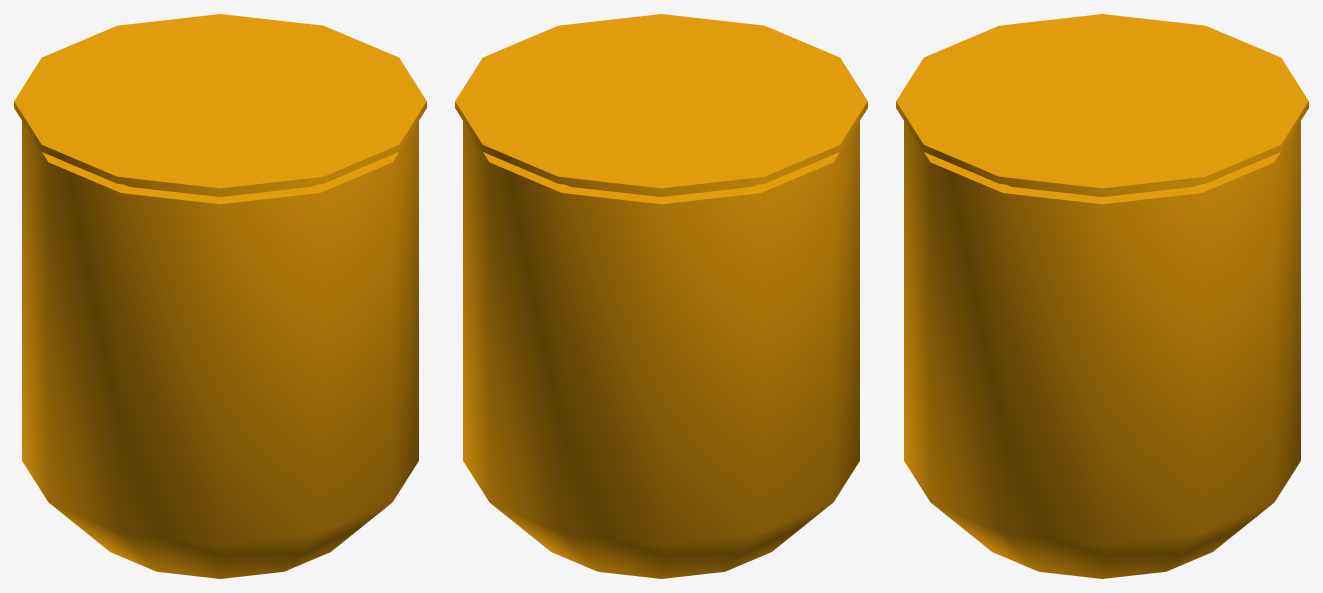
File: bullet.fbx
The picture shows the model from 3 angles, left to right: view 1: azimuth 30°, elevation 25°; view 2: azimuth 150°, elevation 25°; view 3: azimuth 270°, elevation 25°; orthographic projection.
Parts seen in each view (by area): view 1: Bullet; view 2: Bullet; view 3: Bullet.
Part boxes in pixels (x1,y1,x2,y2): Bullet: (14,14,426,578); Bullet: (455,14,867,578); Bullet: (896,14,1308,578).
Bounding box in the file's own units: 4811 × 5454 × 4811.
